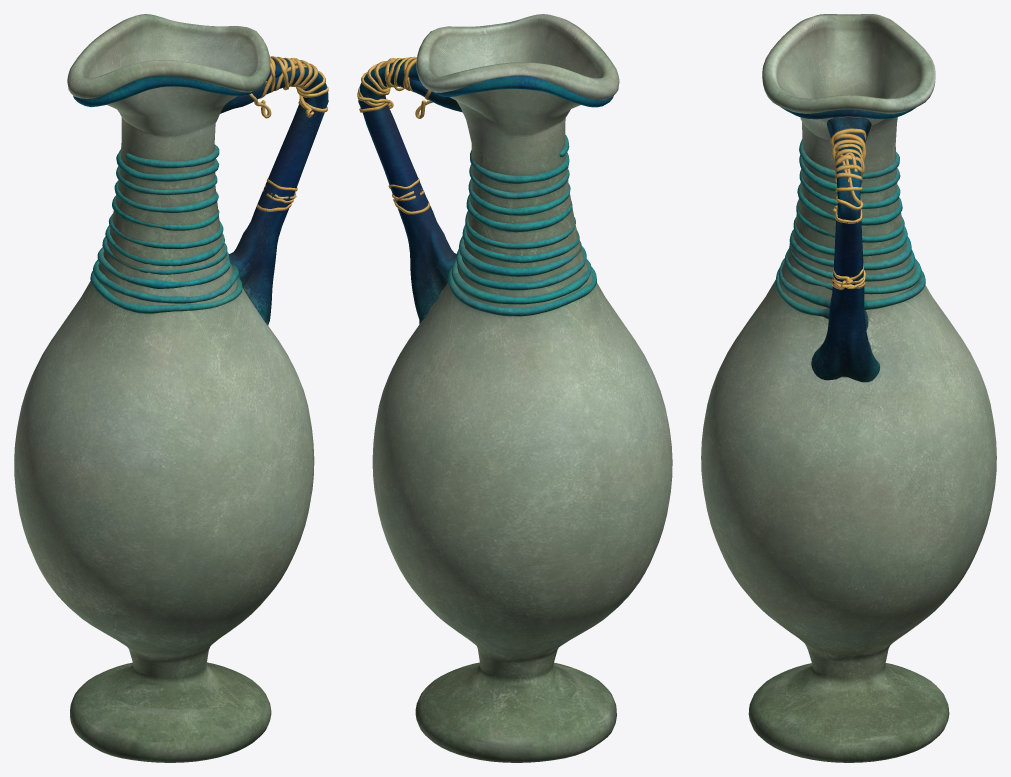
File: phoenixglass-v1.glb
3 renders of one model, left to right at view 1: azimuth 30°, elevation 25°; view 2: azimuth 150°, elevation 25°; view 3: azimuth 270°, elevation 25°, orthographic.
Visible parts, largest first — view 1: Glass_01, Glass_02, Glass_11, Glass_08; view 2: Glass_01, Glass_02, Glass_11, Glass_08; view 3: Glass_01, Glass_02, Glass_08, Glass_11.
Boxes of the visible parts, x1,y1,x2,y2 form: Glass_01: (14, 14, 328, 762); Glass_02: (90, 144, 242, 313); Glass_11: (73, 76, 254, 107); Glass_08: (249, 56, 328, 118); Glass_01: (358, 14, 672, 762); Glass_02: (448, 135, 596, 316); Glass_11: (432, 75, 613, 107); Glass_08: (357, 57, 433, 118); Glass_01: (701, 14, 996, 762); Glass_02: (775, 139, 925, 319); Glass_08: (833, 133, 866, 210); Glass_11: (781, 107, 916, 119).
Bounding box in the file's own units: 0.8887 × 2 × 0.7817.
Materials: 11 (11 with a texture image).
